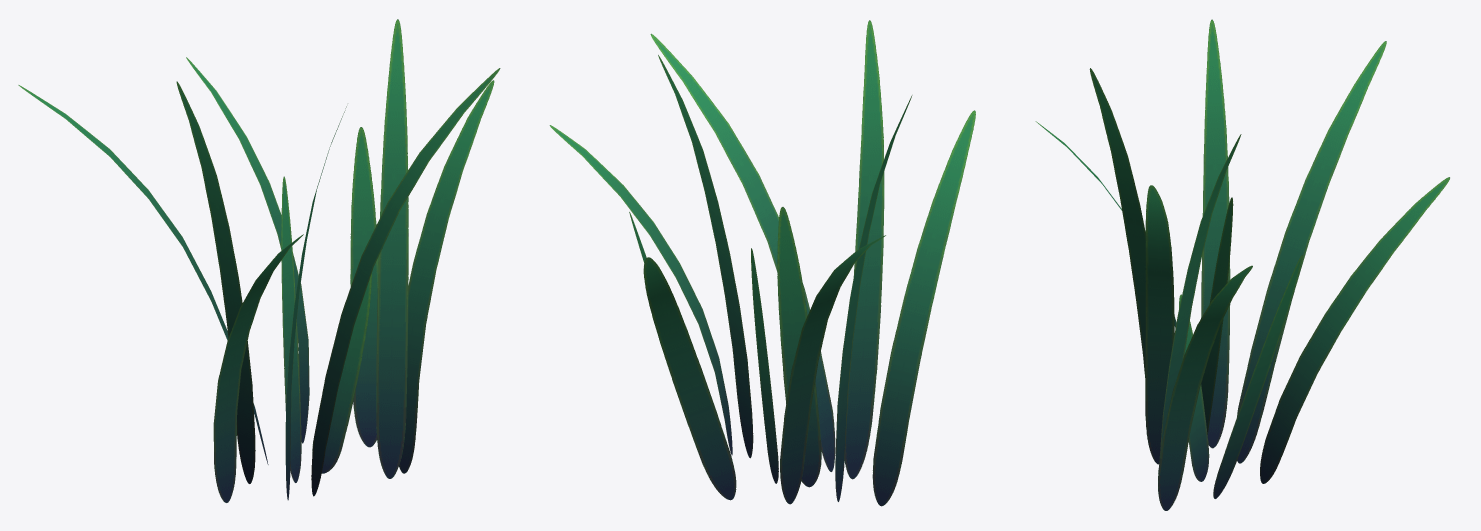
File: grass_clump_c.glb
3 renders of one model, left to right at view 1: azimuth 30°, elevation 25°; view 2: azimuth 150°, elevation 25°; view 3: azimuth 270°, elevation 25°, orthographic. The views are drawn at different scales.
Parts seen in each view (by area): view 1: Grass:Grass_low9_Grass:Grass_MAT_0, Grass:Grass_low7_Grass:Grass_MAT_0, Grass:Grass_low8_Grass:Grass_MAT_0, Grass:Grass_low11_Grass:Grass_MAT_0, Grass:Grass_Master3_Grass:Grass_MAT_0, Grass:Grass_low10_Grass:Grass_MAT_0, Grass:Grass_Master1_Grass:Grass_MAT_0, Grass:Grass_low13_Grass:Grass_MAT_0, Grass:Grass_Master2_Grass:Grass_MAT_0, Grass:Grass_low12_Grass:Grass_MAT_0, Grass:Grass_low6_Grass:Grass_MAT_0; view 2: Grass:Grass_low10_Grass:Grass_MAT_0, Grass:Grass_low6_Grass:Grass_MAT_0, Grass:Grass_low13_Grass:Grass_MAT_0, Grass:Grass_low12_Grass:Grass_MAT_0, Grass:Grass_low8_Grass:Grass_MAT_0, Grass:Grass_Master1_Grass:Grass_MAT_0, Grass:Grass_low9_Grass:Grass_MAT_0, Grass:Grass_low7_Grass:Grass_MAT_0, Grass:Grass_low11_Grass:Grass_MAT_0, Grass:Grass_Master2_Grass:Grass_MAT_0; view 3: Grass:Grass_low12_Grass:Grass_MAT_0, Grass:Grass_low13_Grass:Grass_MAT_0, Grass:Grass_low11_Grass:Grass_MAT_0, Grass:Grass_low8_Grass:Grass_MAT_0, Grass:Grass_low7_Grass:Grass_MAT_0, Grass:Grass_low6_Grass:Grass_MAT_0, Grass:Grass_Master3_Grass:Grass_MAT_0, Grass:Grass_low9_Grass:Grass_MAT_0, Grass:Grass_Master1_Grass:Grass_MAT_0, Grass:Grass_Master2_Grass:Grass_MAT_0.
Part boxes in pixels (bbox=[...]): Grass:Grass_low9_Grass:Grass_MAT_0: bbox=[376, 19, 408, 478]; Grass:Grass_low7_Grass:Grass_MAT_0: bbox=[399, 80, 494, 473]; Grass:Grass_low8_Grass:Grass_MAT_0: bbox=[311, 68, 500, 496]; Grass:Grass_low11_Grass:Grass_MAT_0: bbox=[176, 81, 255, 483]; Grass:Grass_Master3_Grass:Grass_MAT_0: bbox=[350, 127, 378, 447]; Grass:Grass_low10_Grass:Grass_MAT_0: bbox=[213, 234, 303, 502]; Grass:Grass_Master1_Grass:Grass_MAT_0: bbox=[281, 176, 301, 482]; Grass:Grass_low13_Grass:Grass_MAT_0: bbox=[186, 57, 309, 443]; Grass:Grass_Master2_Grass:Grass_MAT_0: bbox=[312, 273, 371, 473]; Grass:Grass_low12_Grass:Grass_MAT_0: bbox=[18, 85, 268, 464]; Grass:Grass_low6_Grass:Grass_MAT_0: bbox=[285, 106, 346, 500]; Grass:Grass_low10_Grass:Grass_MAT_0: bbox=[872, 110, 975, 506]; Grass:Grass_low6_Grass:Grass_MAT_0: bbox=[844, 20, 884, 479]; Grass:Grass_low13_Grass:Grass_MAT_0: bbox=[643, 257, 736, 500]; Grass:Grass_low12_Grass:Grass_MAT_0: bbox=[780, 235, 885, 504]; Grass:Grass_low8_Grass:Grass_MAT_0: bbox=[650, 33, 835, 471]; Grass:Grass_Master1_Grass:Grass_MAT_0: bbox=[777, 207, 821, 487]; Grass:Grass_low9_Grass:Grass_MAT_0: bbox=[658, 55, 753, 458]; Grass:Grass_low7_Grass:Grass_MAT_0: bbox=[549, 125, 732, 455]; Grass:Grass_low11_Grass:Grass_MAT_0: bbox=[835, 95, 912, 501]; Grass:Grass_Master2_Grass:Grass_MAT_0: bbox=[751, 248, 778, 483]; Grass:Grass_low12_Grass:Grass_MAT_0: bbox=[1237, 41, 1386, 463]; Grass:Grass_low13_Grass:Grass_MAT_0: bbox=[1260, 177, 1449, 483]; Grass:Grass_low11_Grass:Grass_MAT_0: bbox=[1201, 19, 1230, 448]; Grass:Grass_low8_Grass:Grass_MAT_0: bbox=[1145, 185, 1174, 464]; Grass:Grass_low7_Grass:Grass_MAT_0: bbox=[1158, 265, 1252, 510]; Grass:Grass_low6_Grass:Grass_MAT_0: bbox=[1089, 68, 1145, 377]; Grass:Grass_Master3_Grass:Grass_MAT_0: bbox=[1213, 255, 1302, 498]; Grass:Grass_low9_Grass:Grass_MAT_0: bbox=[1159, 134, 1241, 462]; Grass:Grass_Master1_Grass:Grass_MAT_0: bbox=[1201, 197, 1233, 434]; Grass:Grass_Master2_Grass:Grass_MAT_0: bbox=[1179, 294, 1209, 481].
Size of the model in its own units: 0.6355 by 0.62 by 0.5995.
Materials: 1 (1 with a texture image).
